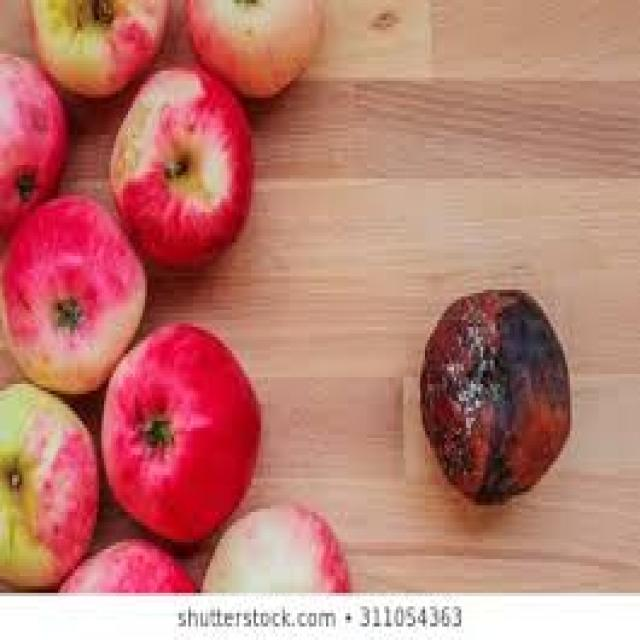organic waste: (99, 320, 258, 552), (418, 286, 570, 506), (106, 60, 251, 262), (0, 192, 145, 391), (0, 378, 94, 590), (195, 498, 352, 590), (181, 0, 319, 98), (24, 0, 167, 91), (0, 51, 68, 229), (56, 532, 196, 590)
